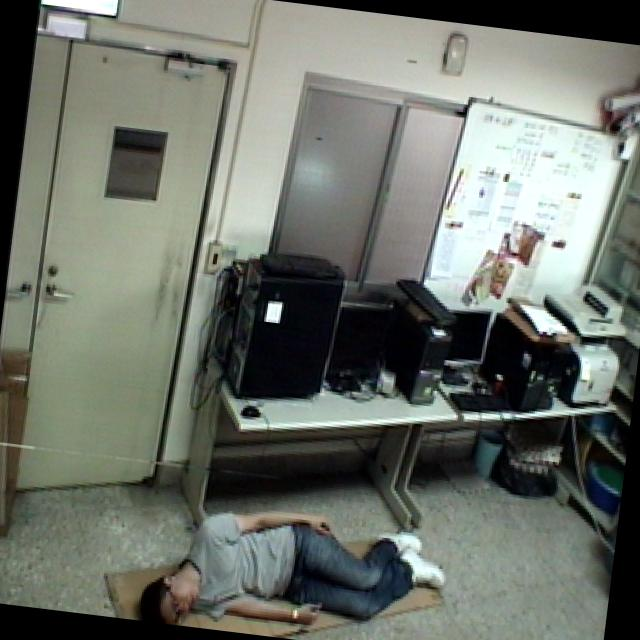lie: (127, 478, 457, 640)
